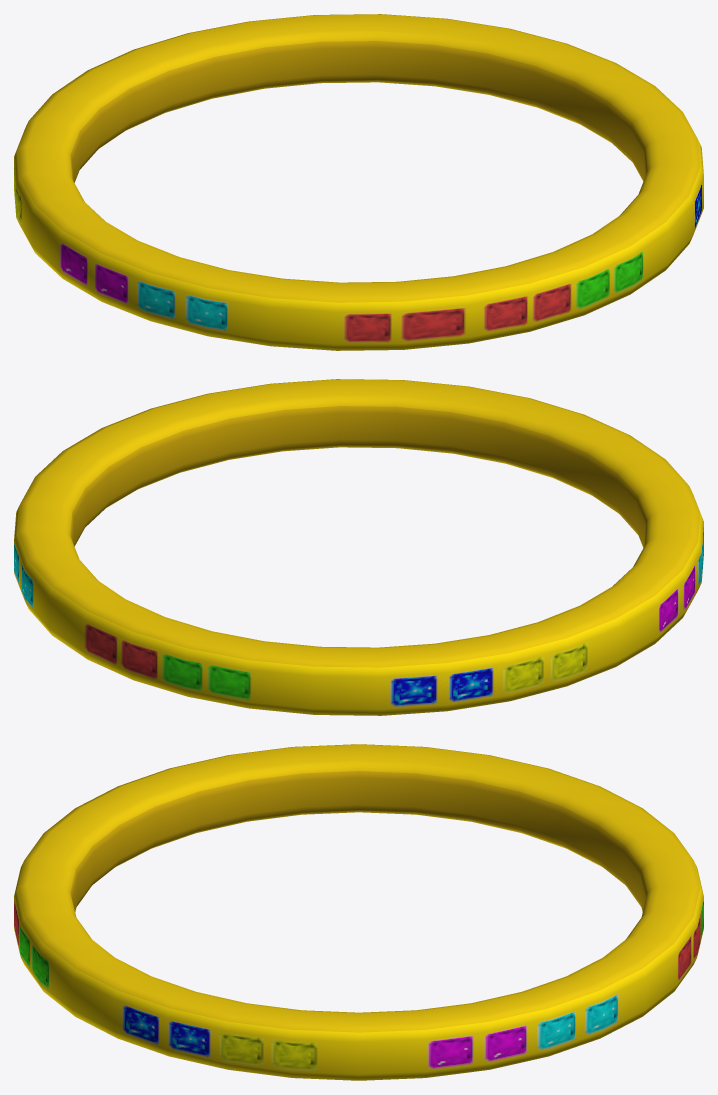
File: piercing 1.fbx
3 renders of one model, top to bottom at view 1: azimuth 30°, elevation 25°; view 2: azimuth 150°, elevation 25°; view 3: azimuth 270°, elevation 25°, orthographic.
Visible parts, largest first — view 1: Cylinder; view 2: Cylinder; view 3: Cylinder.
Boxes of the visible parts, left/top/right/bottom form: Cylinder: left=14, top=14, right=703, bottom=350; Cylinder: left=14, top=379, right=703, bottom=715; Cylinder: left=14, top=744, right=703, bottom=1080.
Size of the model in its own units: 395 by 34.61 by 395.
Materials: 1 (1 with a texture image).
